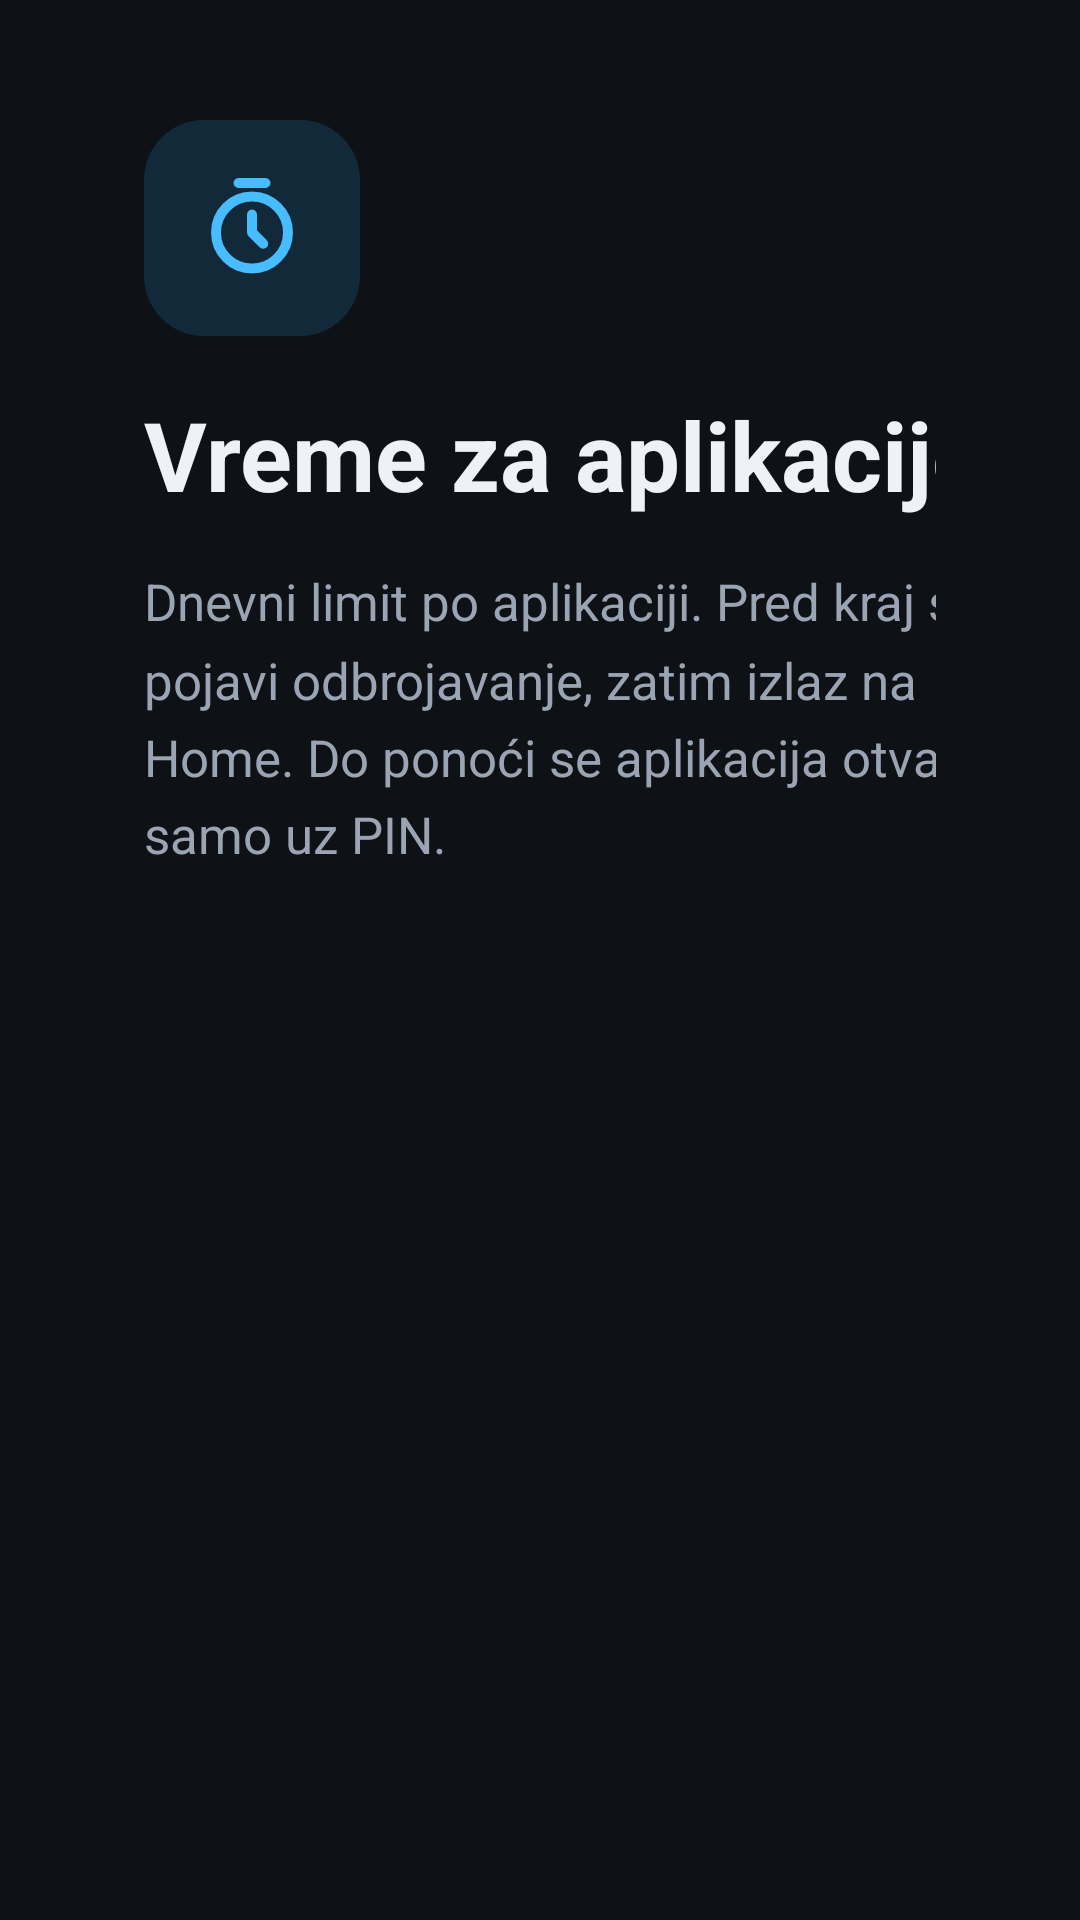

Named icons in this screenshot (1080 × 1920) and their bounding boxes, (x1, y1, x2, y2):
timer: (211, 178, 293, 274)
